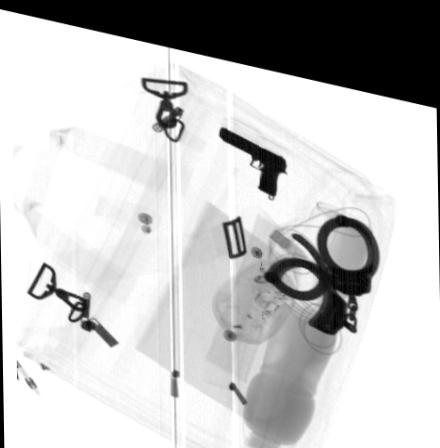Gun: (218, 116, 292, 183)
HandCuffs: (261, 196, 379, 318)
